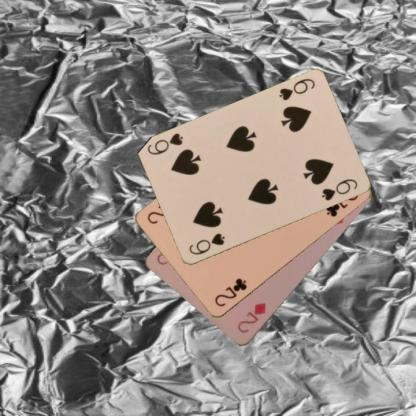2c: (212, 275, 248, 308)
2d: (235, 301, 268, 335)
6s: (186, 230, 227, 256), (276, 76, 316, 102)
